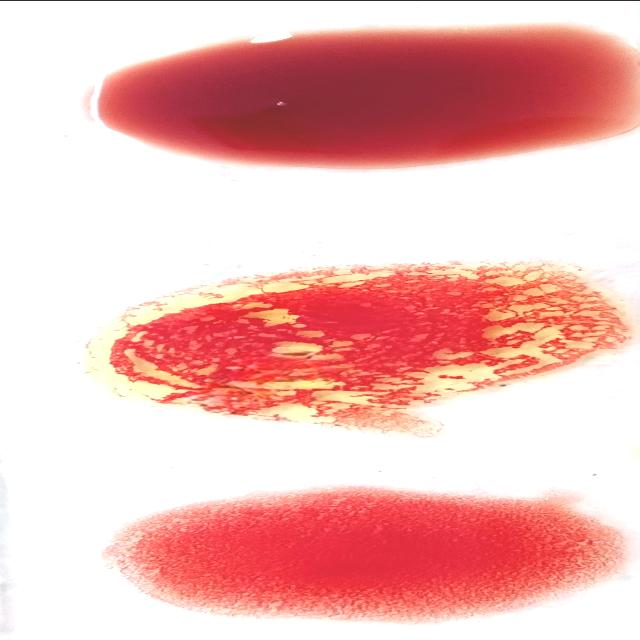B: (76, 254, 630, 412)
D: (113, 486, 619, 612)
